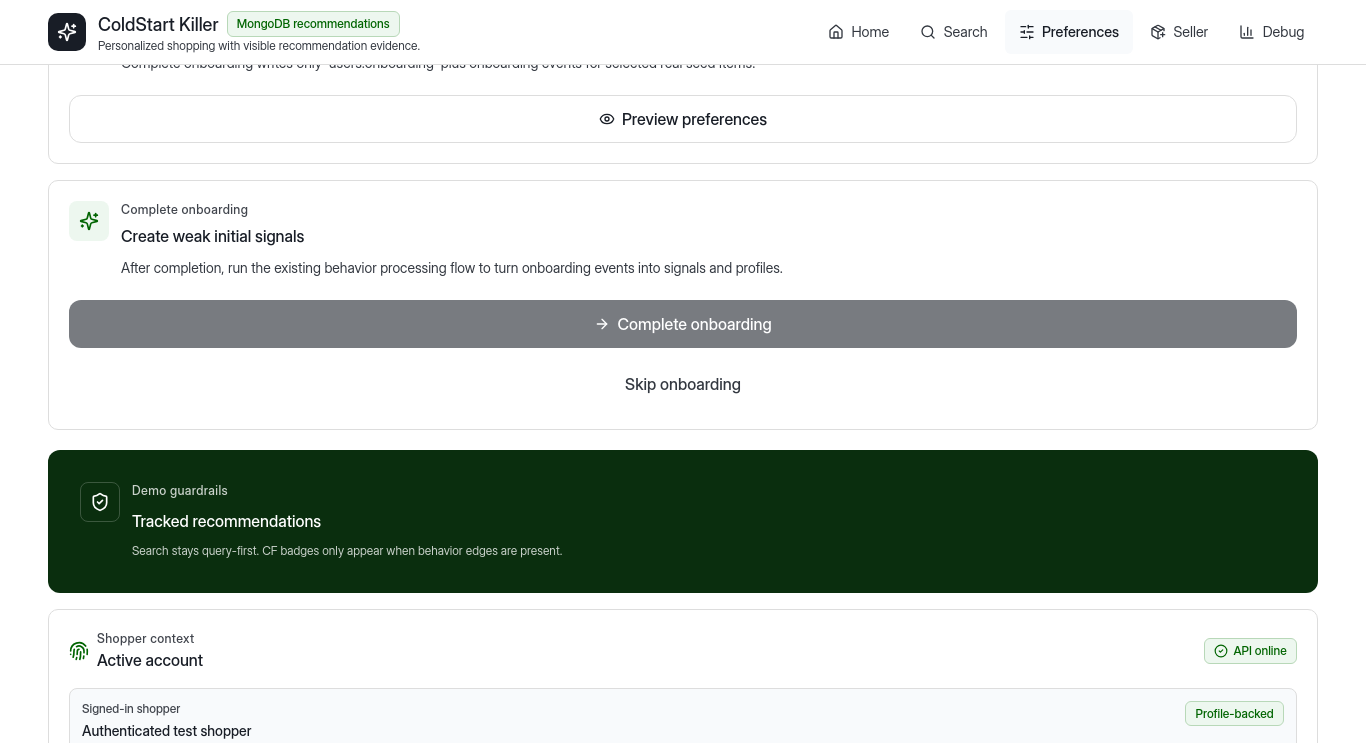
Test: Phase 11 routes › allows shoppers to skip onboarding
(page scrolled)
Click the button "Skip onboarding": (683, 384) [69,360,1297,409]
(page scrolled)
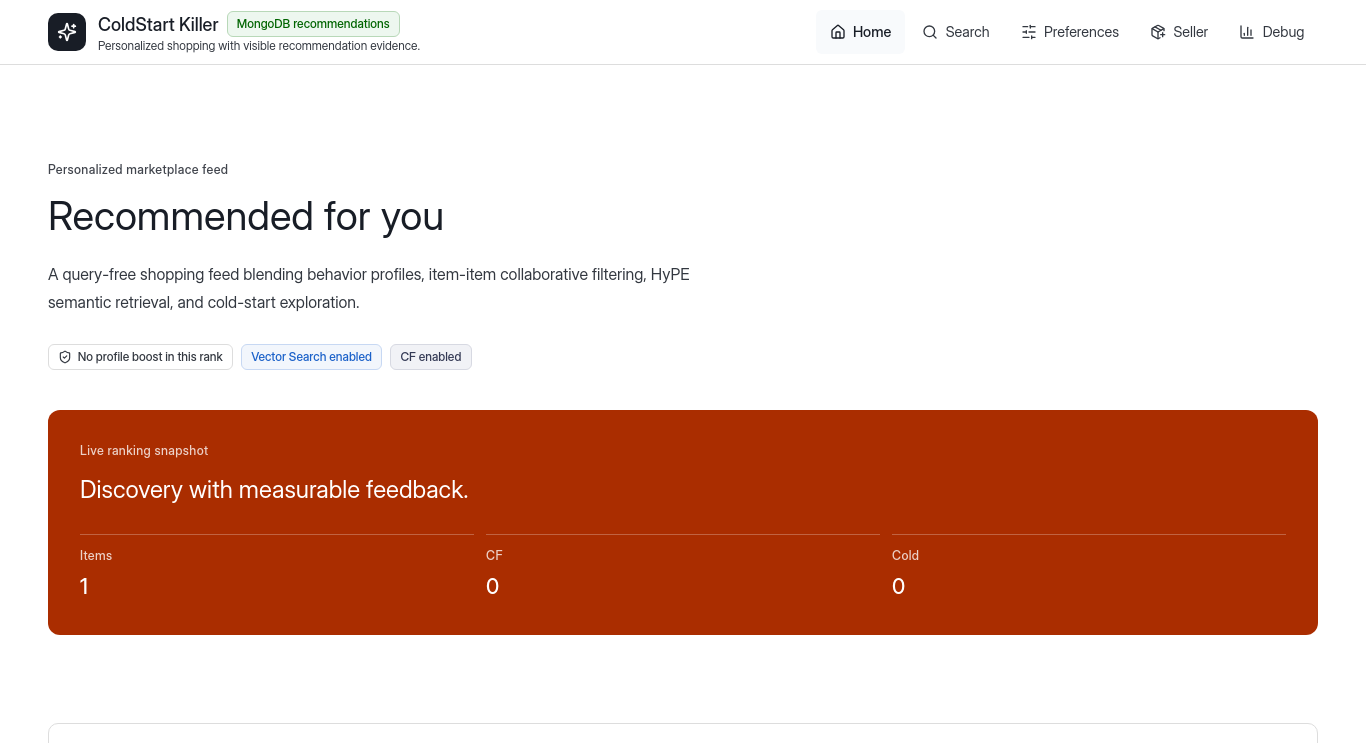
expect the heading "Recommended for you" is shown: met, box [48,191,444,240]
